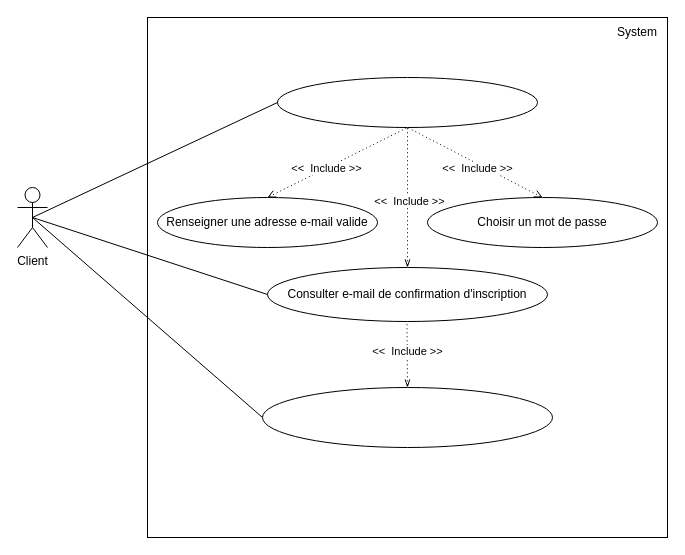
The diagram is 685 pixels wide and 555 high, and some of its shapes have lost their labels. Here are the shapes that lost their labels. From the top down, the centre of each, then its label:
point 407,102: Inscription
point 407,417: Se rendre sur le lien pour confirmer l'inscription
